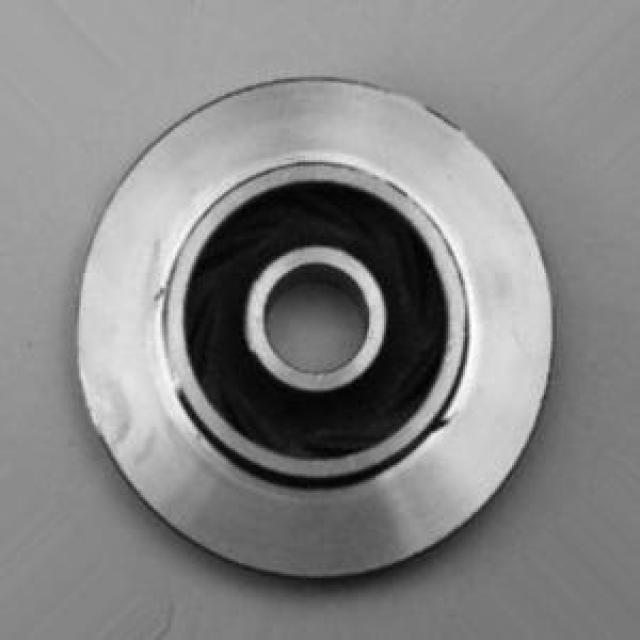Defect: (421, 414, 460, 437)
